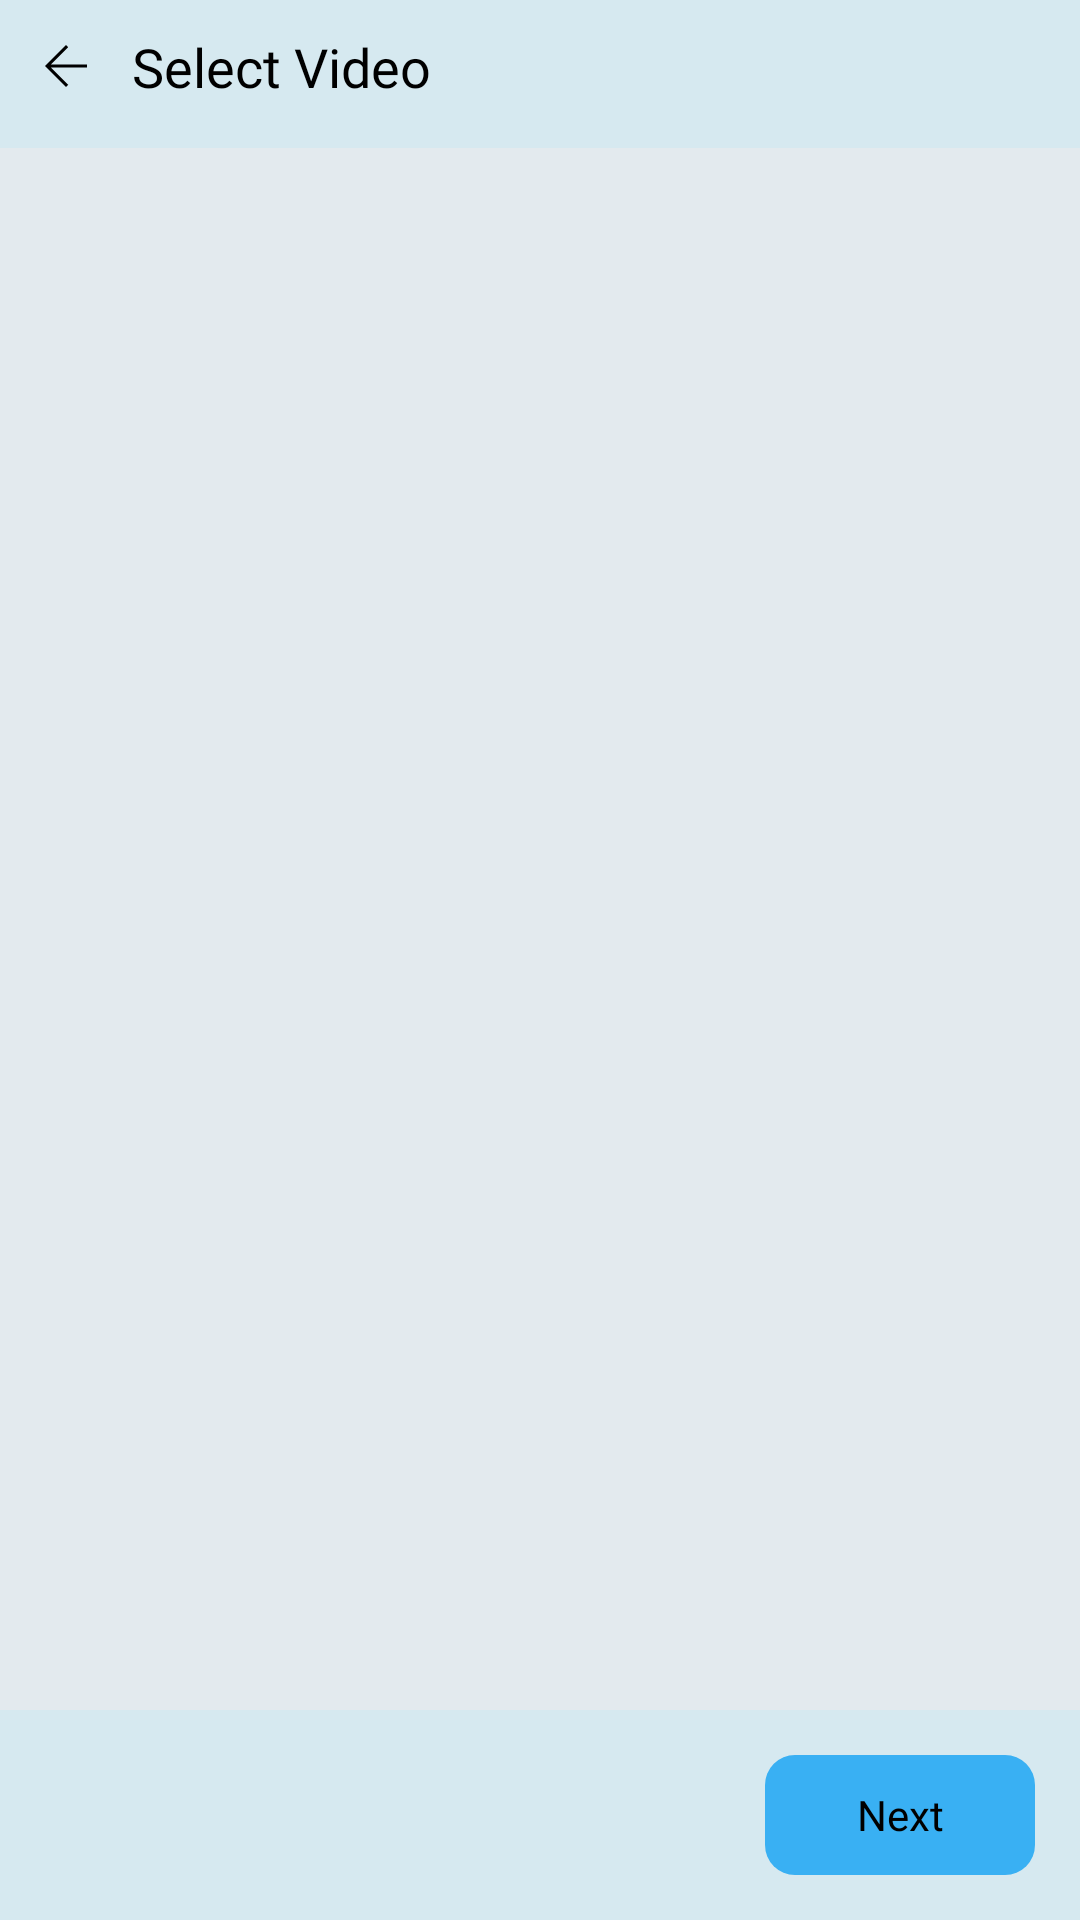

Named icons in this screenshot (1080px×1920px) and their bounding boxes, Rect(x1, y1, x2, y2):
back: Rect(45, 45, 87, 87)
